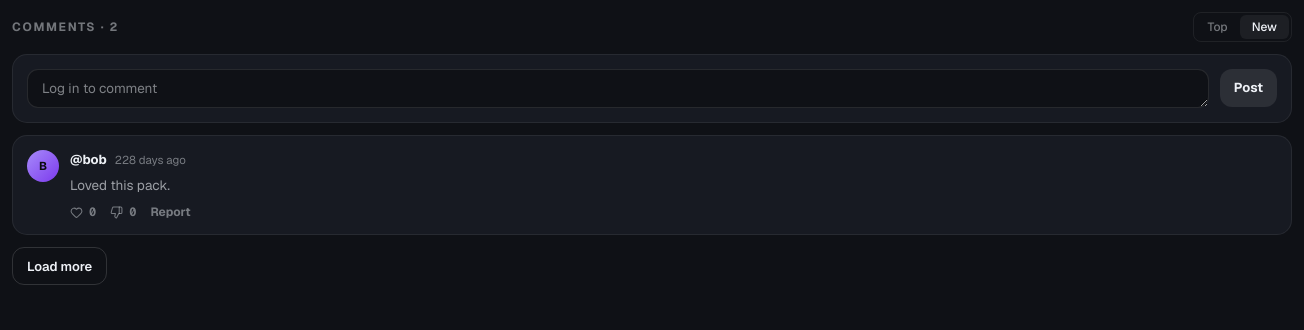
Scenario: CommentSection › shows an error when Load more fails
The width and height of the screenshot is (1304, 330).
Expected: the text "Loved this pack." is shown, top-left (70, 176), bottom-right (170, 194)
What coordinates should you click on to do the following:
click the button "Load more"
I would click on:
 (60, 266)
Its box is top-left (12, 247), bottom-right (107, 285).
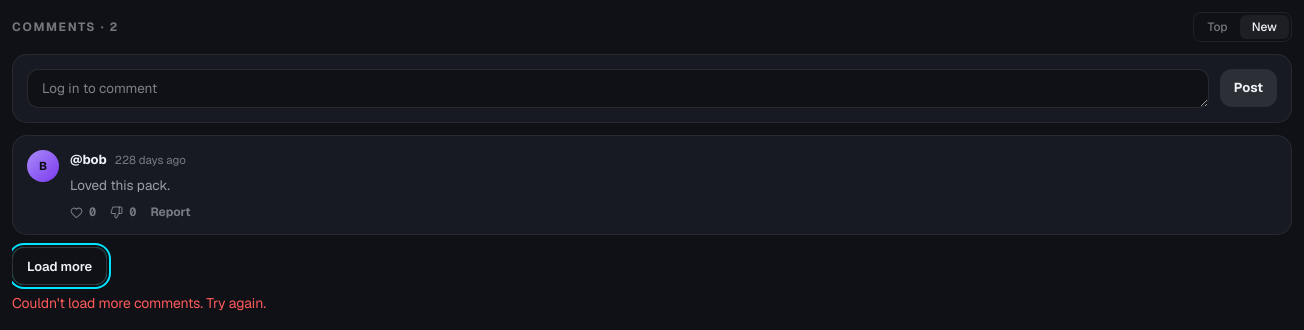
Expected: the text "Couldn't load more comments. Try again." is shown, top-left (12, 293), bottom-right (266, 313)
